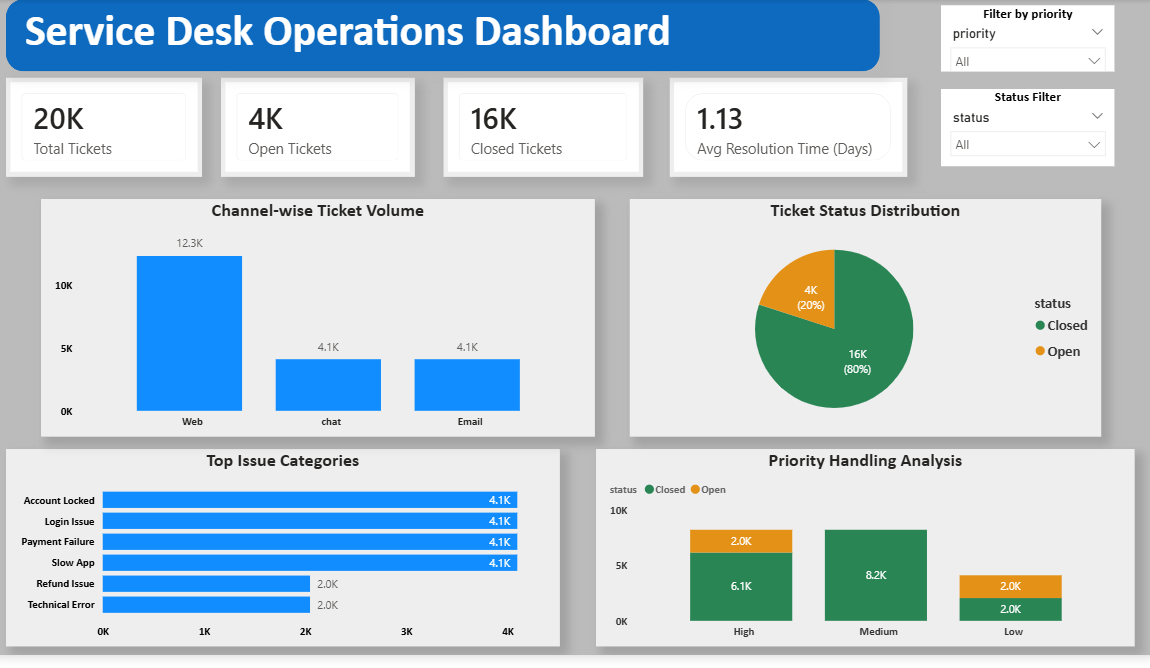

What the dashboard file says about the page in this screenshot:
{"tool":"powerbi","page":{"name":"Page 1","canvas":[1280,720],"ordinal":0},"visuals":[{"type":"cardVisual","fields":{"Data":["public tickets.Total Tickets"]},"box":[16.5,86.4,215.4,108.4],"z":0},{"type":"cardVisual","fields":{"Data":["public tickets.Open Tickets"]},"box":[252.5,86.4,212.7,108.4],"z":1000},{"type":"cardVisual","fields":{"Data":["public tickets.Closed Tickets"]},"box":[496.7,86.4,219.6,108.4],"z":2000},{"type":"clusteredBarChart","title":"Top Issue Categories","fields":{"Category":["public tickets.issue_type"],"Y":["public agents.Ticket Count"]},"box":[16.5,494,607.9,216.8],"z":3000},{"type":"pieChart","title":"Ticket Status Distribution","fields":{"Category":["public tickets.status"],"Y":["public agents.Ticket Count"]},"box":[701.2,219.6,517.3,260.7],"z":4000},{"type":"clusteredColumnChart","title":"Channel-wise Ticket Volume","fields":{"Category":["public agents.team"],"Y":["public agents.Ticket Count"]},"box":[54.9,219.6,607.9,260.7],"z":5000},{"type":"columnChart","title":"Priority Handling Analysis","fields":{"Category":["public tickets.priority"],"Series":["public tickets.status"],"Y":["public agents.Ticket Count"]},"box":[664.2,494,591.4,216.8],"z":6000},{"type":"cardVisual","fields":{"Data":["public agents.Avg Resolution Time"]},"box":[745.1,86.4,260.7,108.4],"z":7000},{"type":"shape","box":[16.5,0,959.2,79.6],"z":8000},{"type":"textbox","box":[26.1,0,731.4,79.6],"z":9000},{"type":"slicer","title":"Filter by priority","fields":{"Values":["public tickets.priority"]},"box":[1042.9,6.9,190.7,72.7],"z":10000},{"type":"slicer","title":"Status Filter","fields":{"Values":["public tickets.status"]},"box":[1042.9,98.8,190.7,85.1],"z":11000}]}

Visuals, with their boxes in screenshot pixels (x1, y1, x2, y2):
cardVisual - public tickets.Total Tickets: <bbox>0, 73, 195, 173</bbox>
cardVisual - public tickets.Open Tickets: <bbox>214, 73, 409, 173</bbox>
cardVisual - public tickets.Closed Tickets: <bbox>438, 73, 640, 173</bbox>
"Top Issue Categories" clusteredBarChart: <bbox>0, 448, 556, 647</bbox>
"Ticket Status Distribution" pieChart: <bbox>626, 196, 1101, 435</bbox>
"Channel-wise Ticket Volume" clusteredColumnChart: <bbox>32, 196, 591, 435</bbox>
"Priority Handling Analysis" columnChart: <bbox>592, 448, 1135, 647</bbox>
cardVisual - public agents.Avg Resolution Time: <bbox>666, 73, 906, 173</bbox>
shape: <bbox>0, 0, 878, 67</bbox>
textbox: <bbox>6, 0, 678, 67</bbox>
"Filter by priority" slicer: <bbox>940, 0, 1115, 67</bbox>
"Status Filter" slicer: <bbox>940, 85, 1115, 163</bbox>
